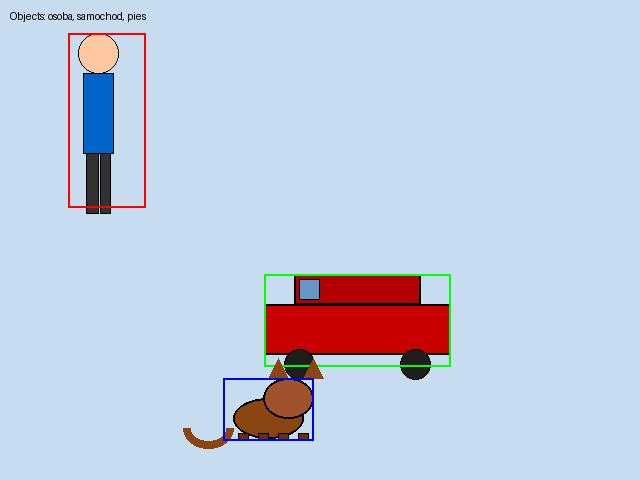osoba: (68, 33, 145, 207)
pies: (223, 378, 313, 440)
samochod: (264, 274, 450, 366)
